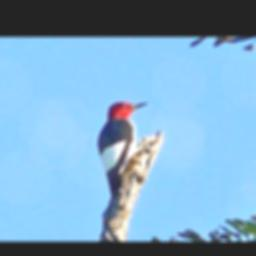Woodpecker: (85, 93, 156, 219)
